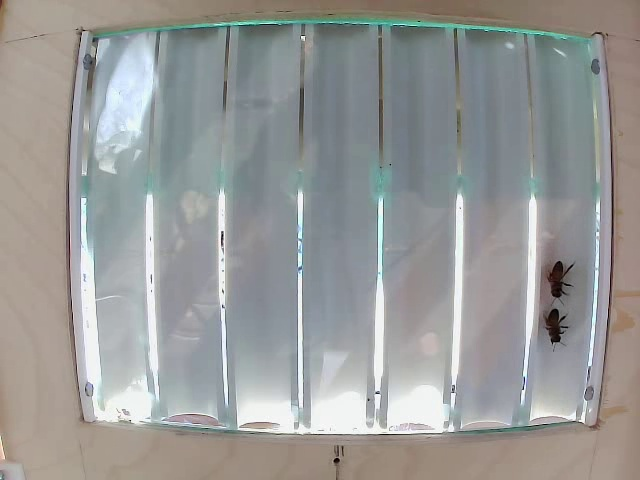bee: (538, 307, 574, 349), (547, 266, 575, 298)
